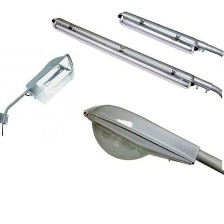light_bulb: (49, 14, 195, 93), (72, 104, 190, 173), (111, 8, 200, 57), (21, 48, 75, 109)
